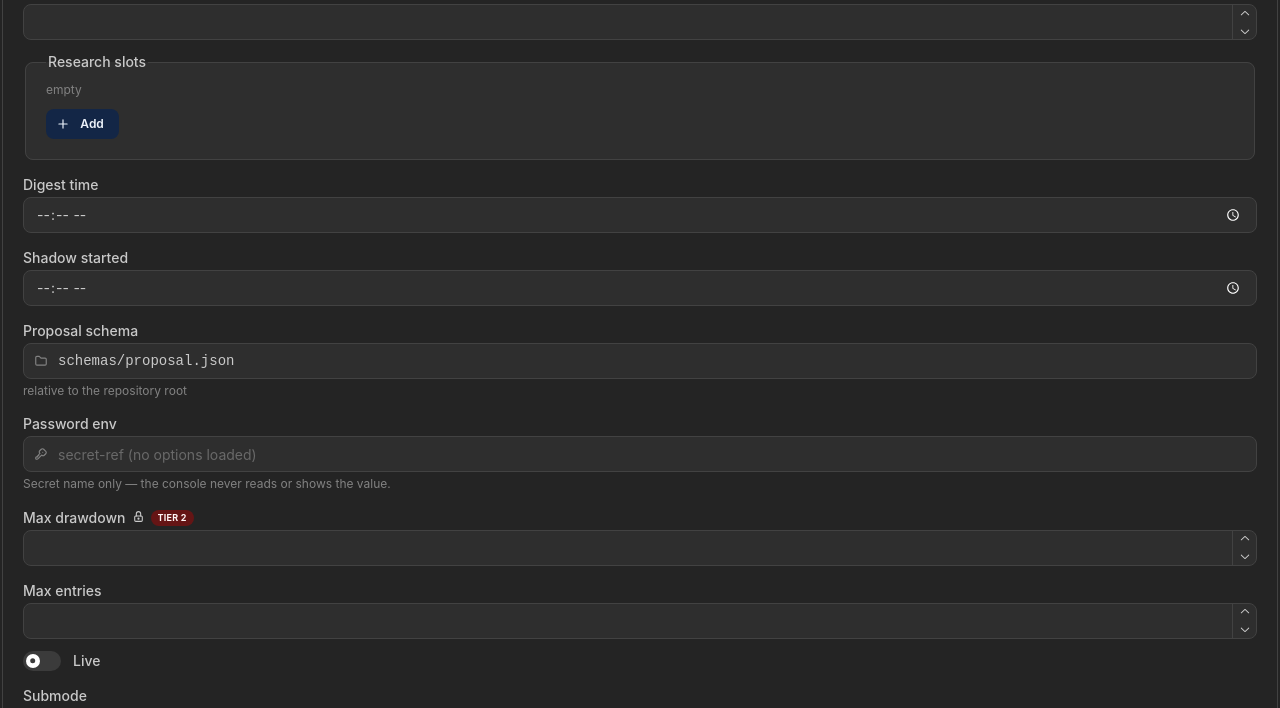
Test: SchemaForm — slider, time, duration, path, secret-ref › labels a path as repo-relative or absolute
The width and height of the screenshot is (1280, 708).
(page scrolled)
Check: the text with test id "path-kind-schema_path" reads "relative to the repository root", box [23,383,187,398]
Replace the text in the field with test id "field-schema_path" with "/etc/earn.json". click: (640, 361)
box: [23,343,1257,379]
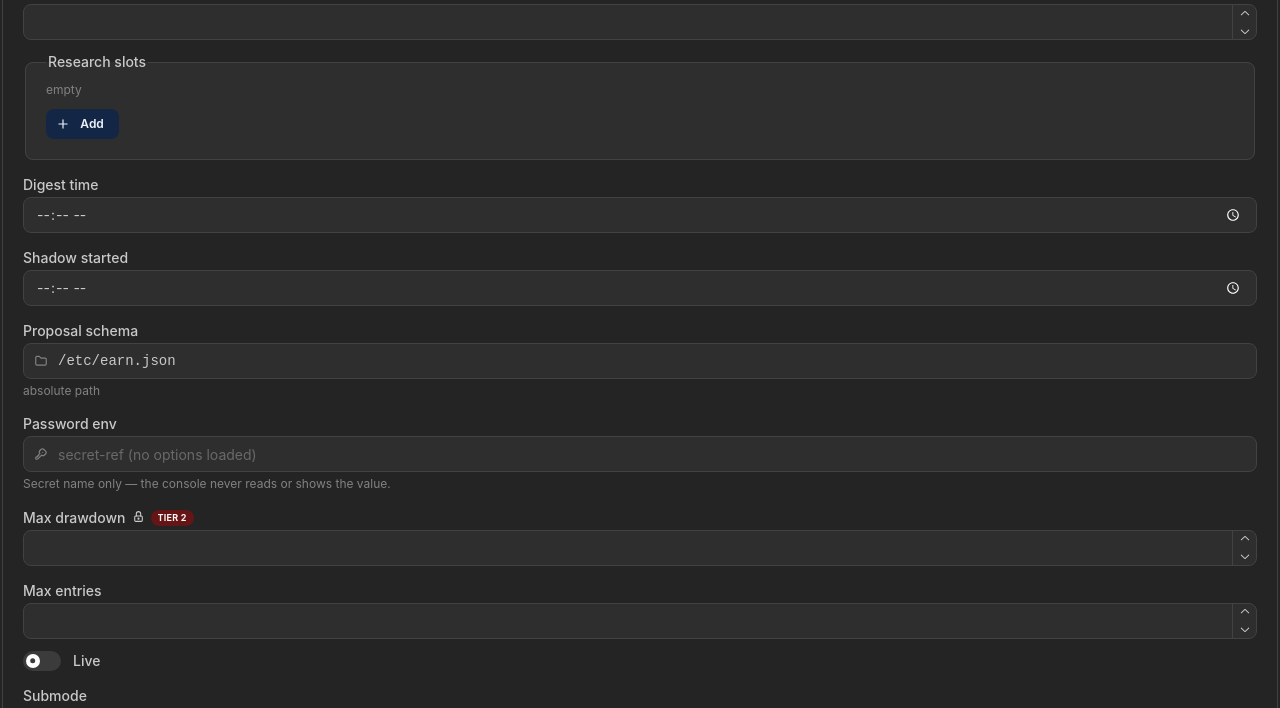
Check: the text with test id "path-kind-schema_path" reads "absolute path", box [23,383,100,398]
